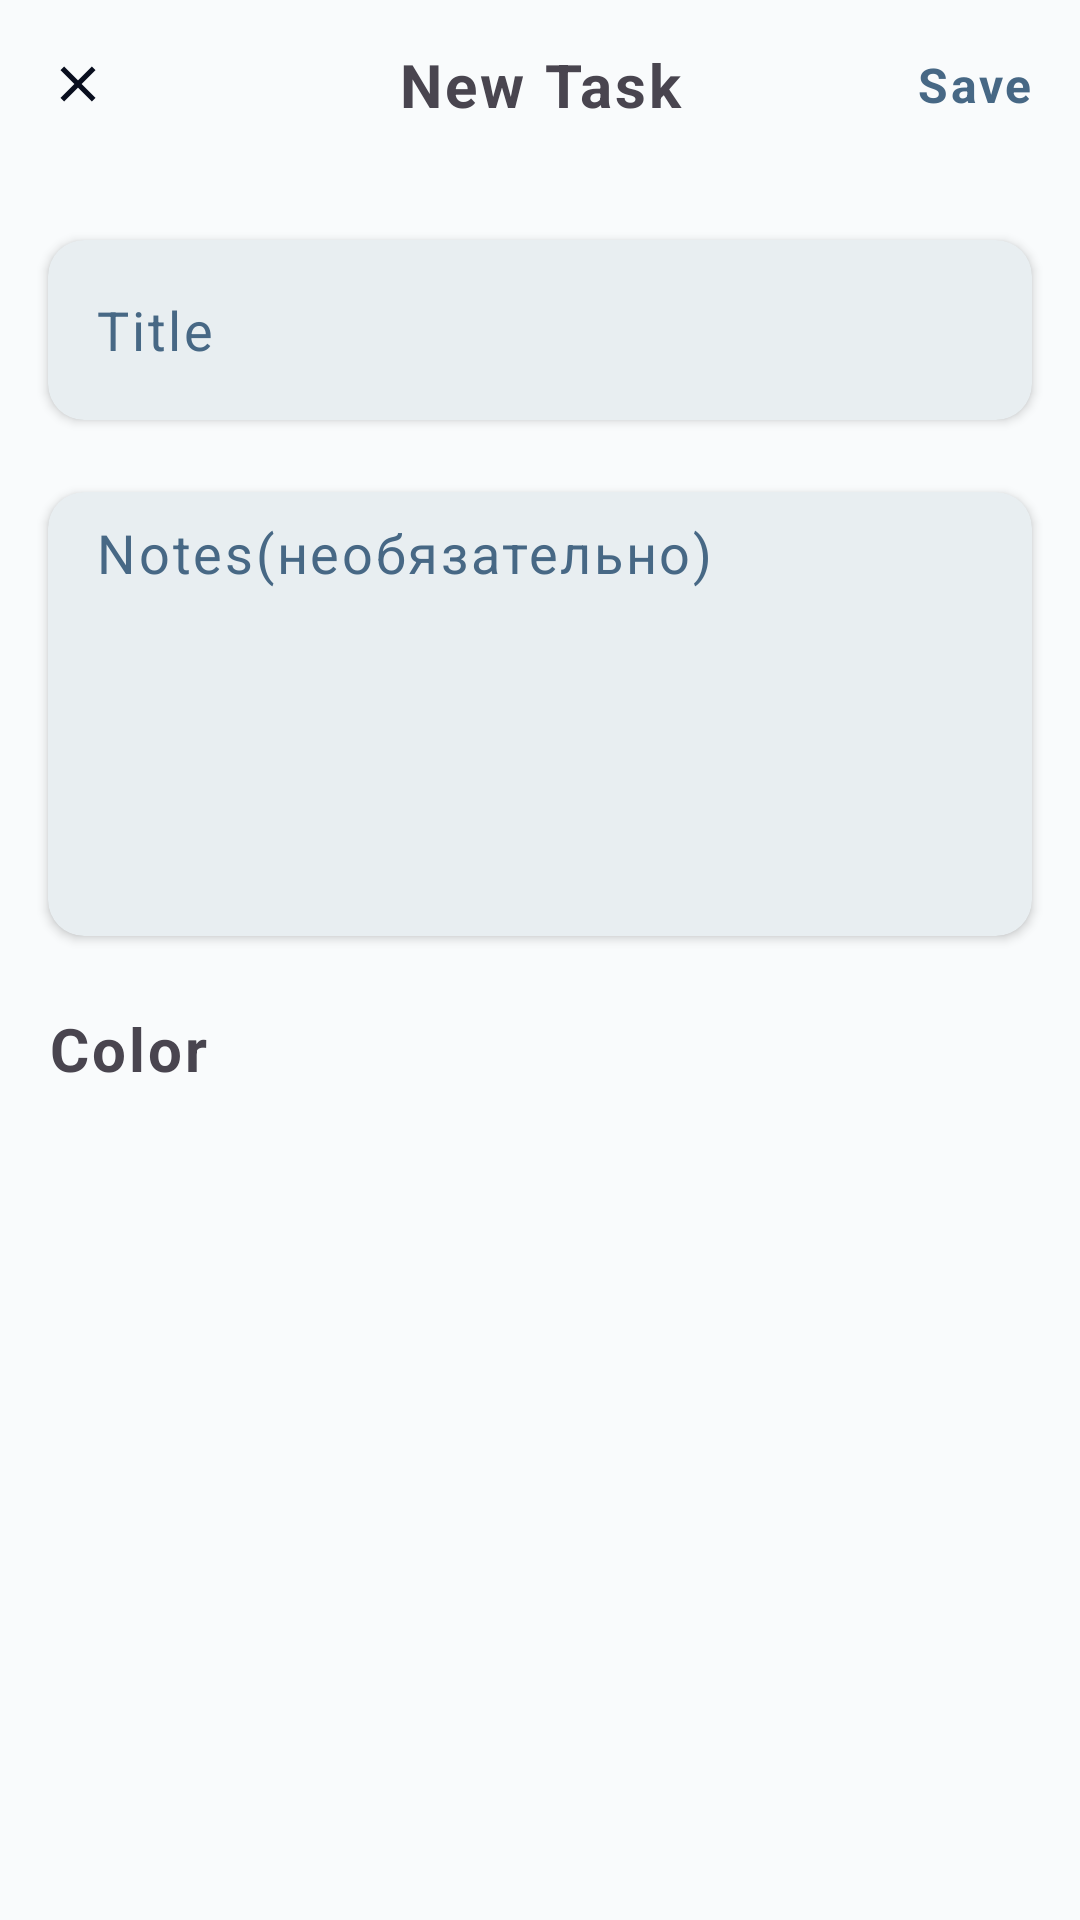

Where to tap for icons on this 1080 × 1920 app screen, as (x=x, y=y):
close: (x=78, y=84)
